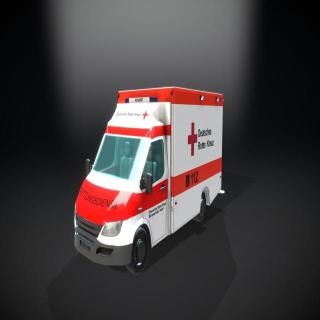Ambulance: (70, 62, 236, 278)
